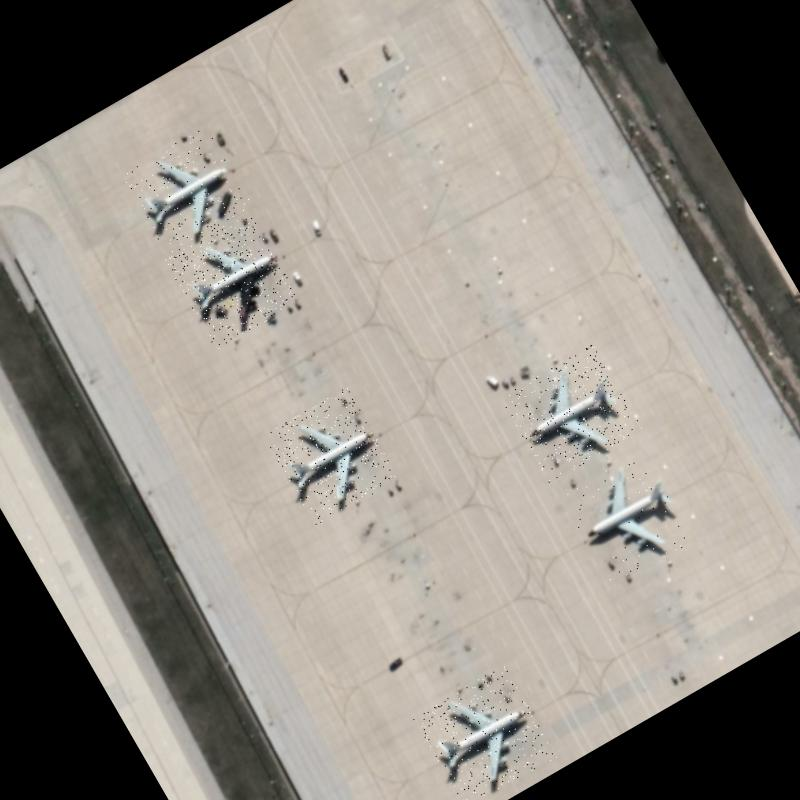A11: (500, 343, 643, 484), (558, 444, 698, 588), (412, 664, 557, 800), (164, 211, 302, 350), (263, 386, 400, 526), (120, 125, 254, 257)
